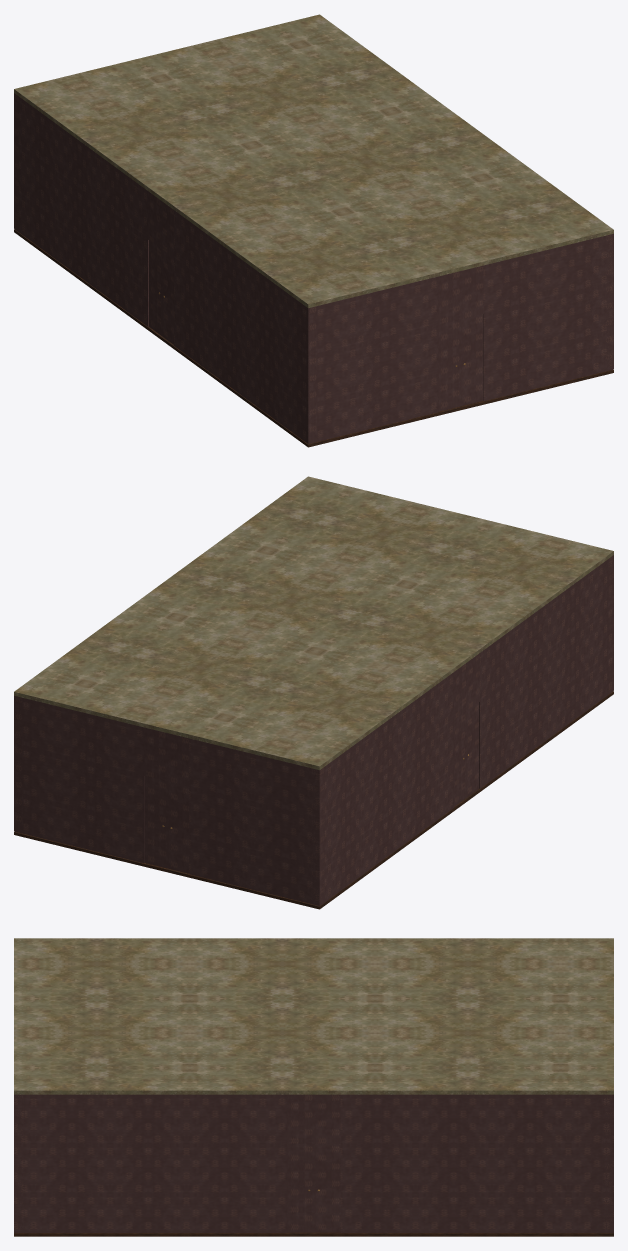
File: Sala-de-Jantar.glb
The picture shows the model from 3 angles, top to bottom: view 1: azimuth 30°, elevation 25°; view 2: azimuth 150°, elevation 25°; view 3: azimuth 270°, elevation 25°; orthographic projection.
Visible parts, largest first — view 1: Teto__Reboco, Parede_O__Damasco, Parede_S__Damasco, Fecho_S__Damasco, Piso__Ebanizada, Fecho_O__Damasco, Parede_L__Damasco, Parede_N__Damasco; view 2: Teto__Reboco, Parede_O__Damasco, Parede_N__Damasco, Fecho_N__Damasco, Piso__Ebanizada, Fecho_O__Damasco, Parede_L__Damasco; view 3: Teto__Reboco, Parede_L__Damasco, Fecho_L__Damasco, Piso__Ebanizada, Parede_N__Damasco, Parede_S__Damasco.
Boxes of the visible parts, left/top/right/bottom form: Teto__Reboco: left=14, top=14, right=613, bottom=308; Parede_O__Damasco: left=14, top=94, right=317, bottom=443; Parede_S__Damasco: left=303, top=234, right=613, bottom=443; Fecho_S__Damasco: left=438, top=314, right=483, bottom=411; Piso__Ebanizada: left=14, top=229, right=613, bottom=447; Fecho_O__Damasco: left=149, top=240, right=173, bottom=344; Parede_L__Damasco: left=604, top=233, right=613, bottom=370; Parede_N__Damasco: left=14, top=93, right=19, bottom=231; Teto__Reboco: left=14, top=476, right=613, bottom=770; Parede_O__Damasco: left=310, top=555, right=613, bottom=905; Parede_N__Damasco: left=14, top=696, right=324, bottom=905; Fecho_N__Damasco: left=144, top=776, right=189, bottom=873; Piso__Ebanizada: left=14, top=691, right=613, bottom=909; Fecho_O__Damasco: left=454, top=702, right=478, bottom=806; Parede_L__Damasco: left=14, top=695, right=23, bottom=833; Teto__Reboco: left=14, top=938, right=613, bottom=1094; Parede_L__Damasco: left=14, top=1094, right=613, bottom=1232; Fecho_L__Damasco: left=287, top=1144, right=340, bottom=1232; Piso__Ebanizada: left=14, top=1232, right=613, bottom=1236; Parede_N__Damasco: left=603, top=1094, right=613, bottom=1232; Parede_S__Damasco: left=14, top=1094, right=24, bottom=1232.
Size of the model in its own units: 33 by 14.76 by 55.
17 materials, 17 textured.
